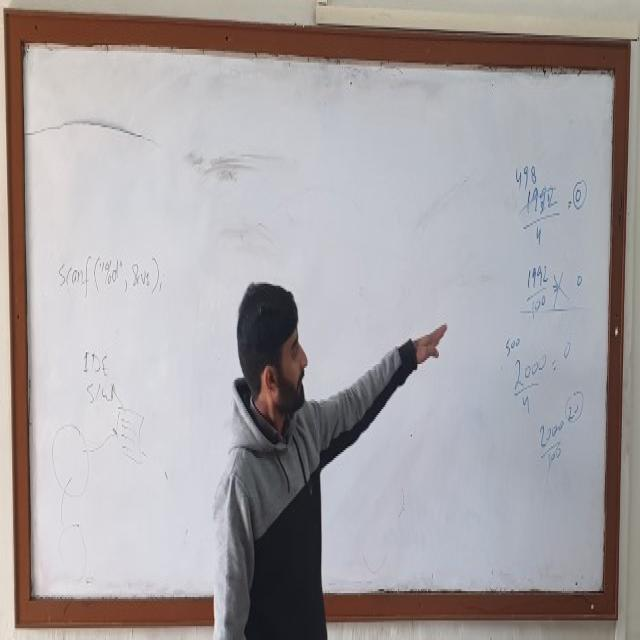Instructor: (198, 256, 349, 640)
White-board: (12, 24, 621, 611)
